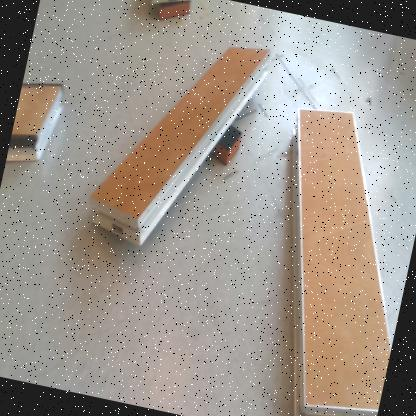Stairs: (89, 46, 271, 251), (291, 109, 391, 416), (9, 86, 63, 164), (151, 1, 192, 11)
